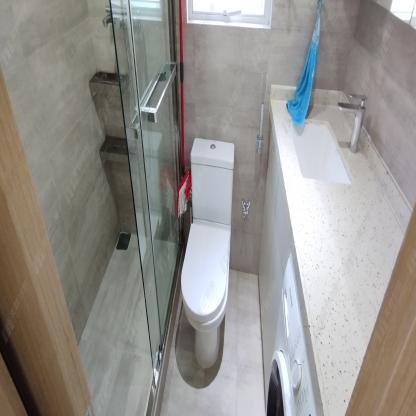Toilet: (179, 133, 236, 375)
Toilet Sink: (286, 120, 354, 186)
